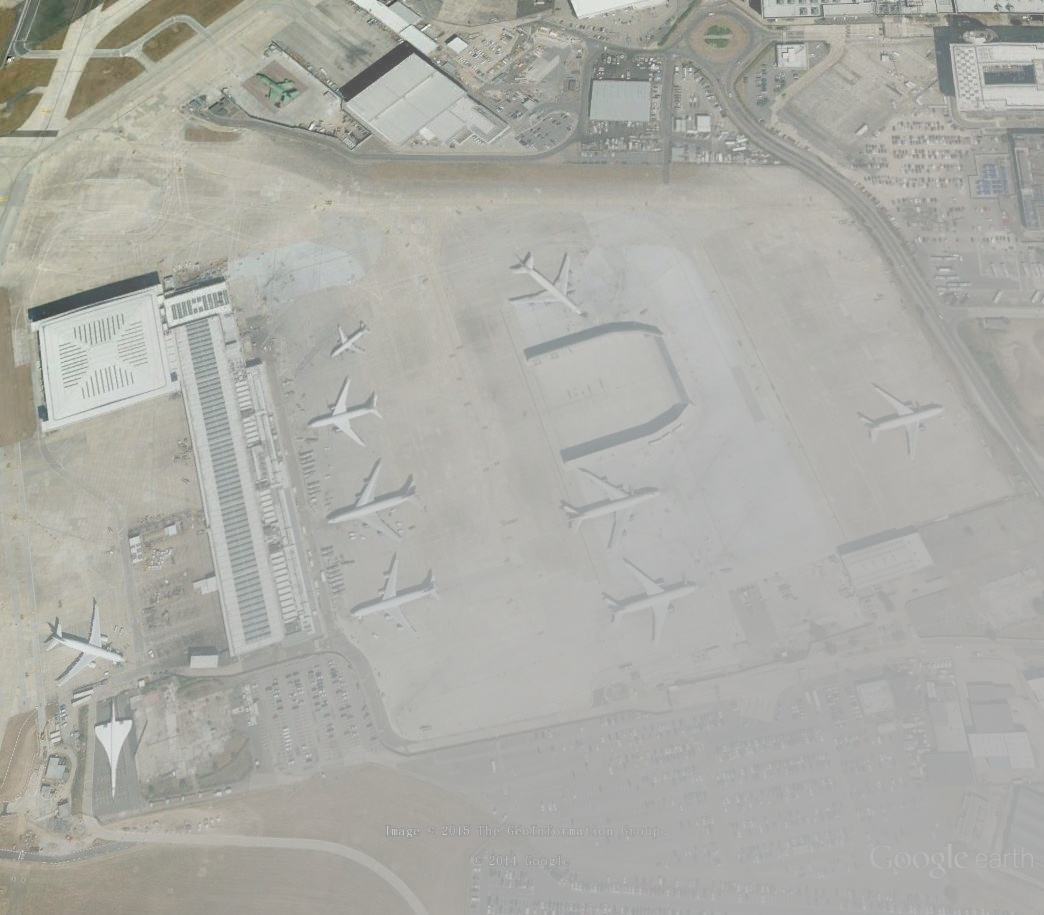aircraft: (556, 460, 667, 555), (597, 555, 703, 651), (324, 457, 424, 555), (345, 550, 445, 640), (856, 382, 949, 465), (43, 597, 127, 687), (306, 372, 385, 453), (507, 249, 594, 319), (328, 318, 373, 363)
